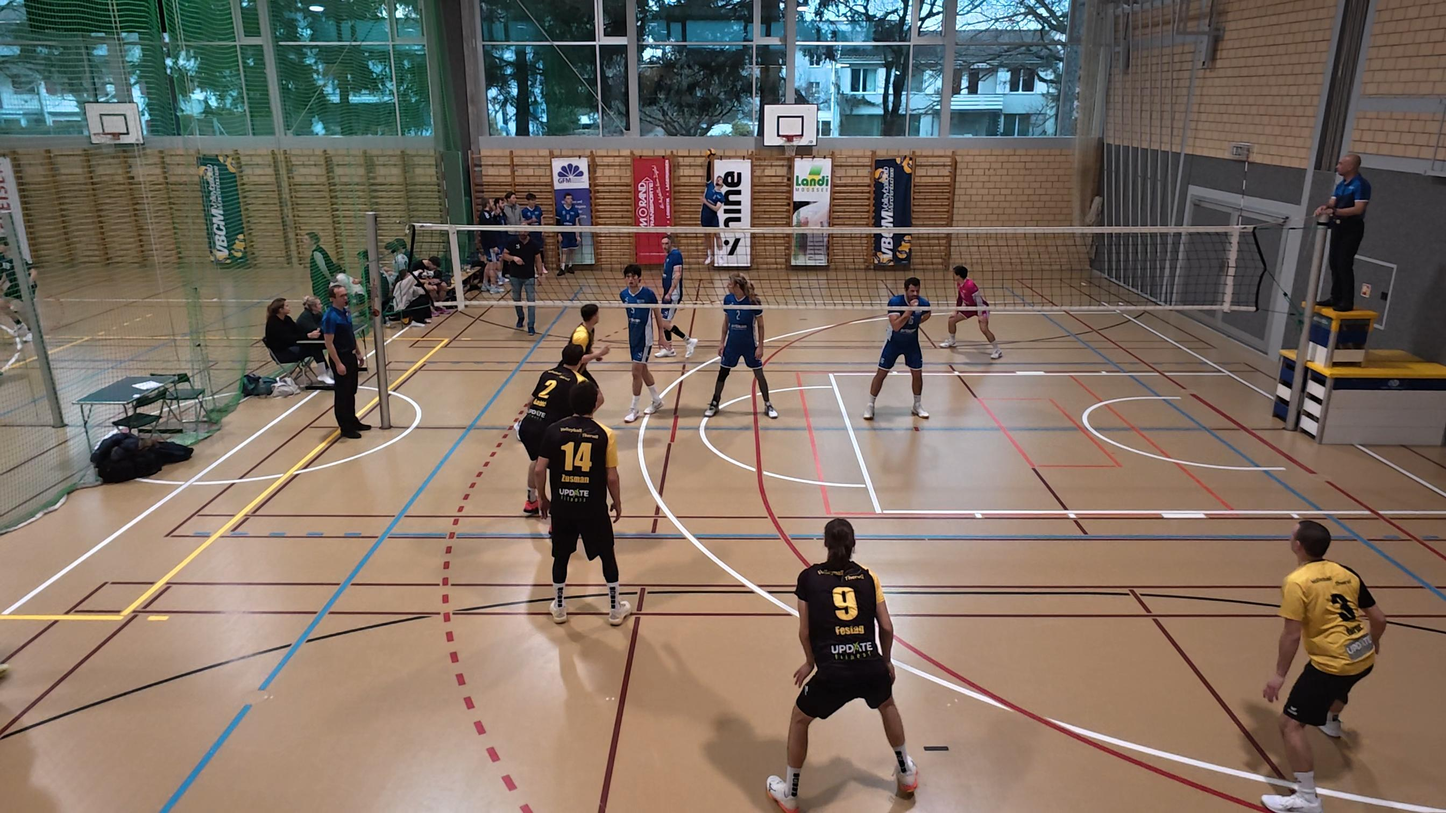battuta: (697, 144, 732, 267)
